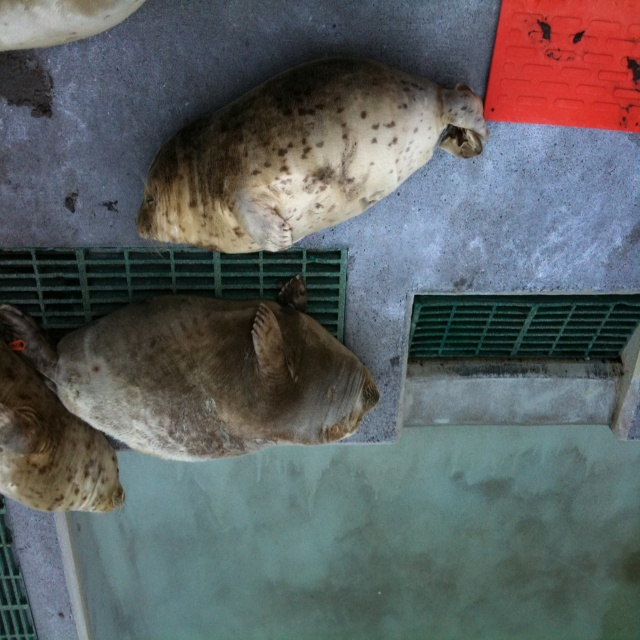Fish: (104, 38, 507, 284)
